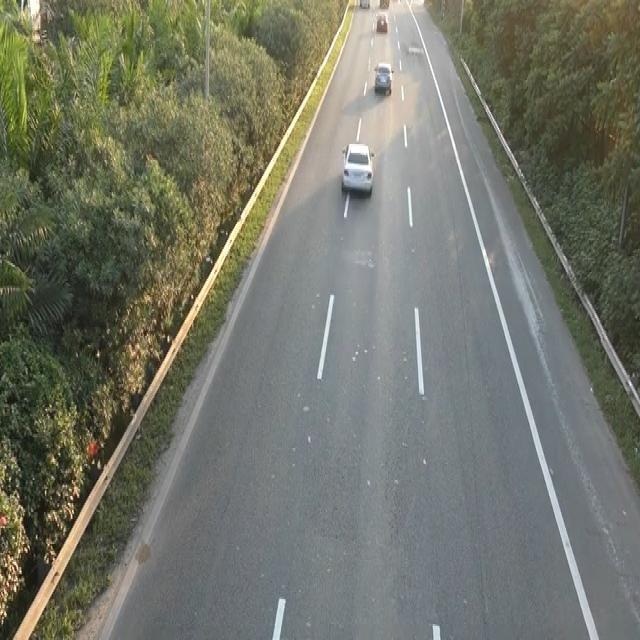bus: (339, 137, 377, 203), (373, 59, 394, 94)
